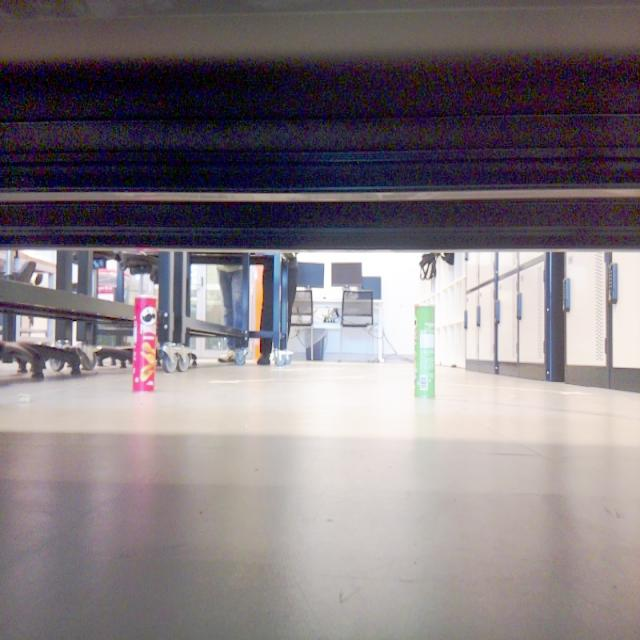greenpringles: (408, 296, 445, 407)
redpringles: (126, 290, 162, 396)
